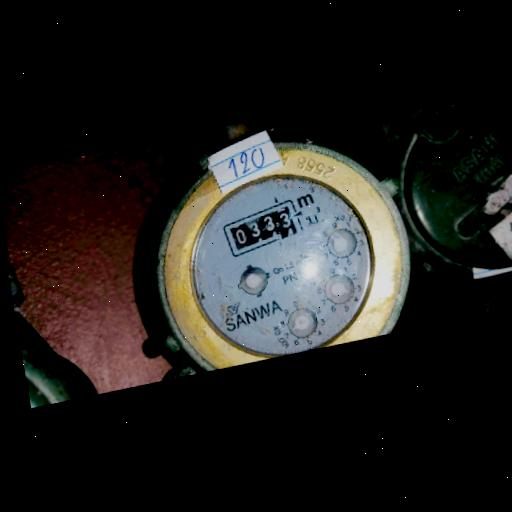0: (230, 221, 253, 252)
3: (272, 205, 298, 240), (244, 215, 268, 246), (259, 211, 281, 240)
border_water_meter_number: (219, 197, 306, 261)
